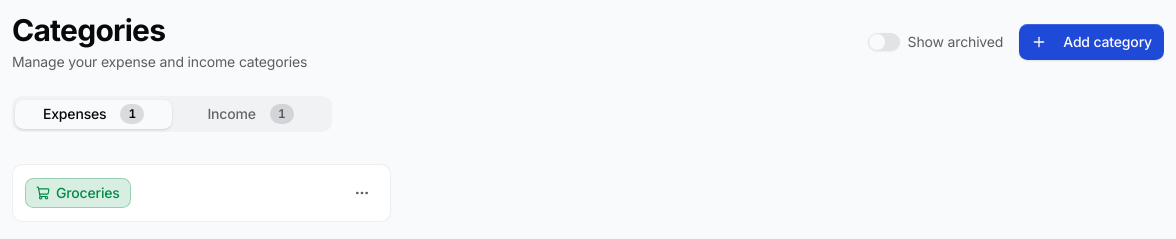
Scenario: CategoriesPage › switches between expenses and incomes tabs
Click the tab with test id "income-tab" at x=250, y=114, box [172, 100, 329, 128]
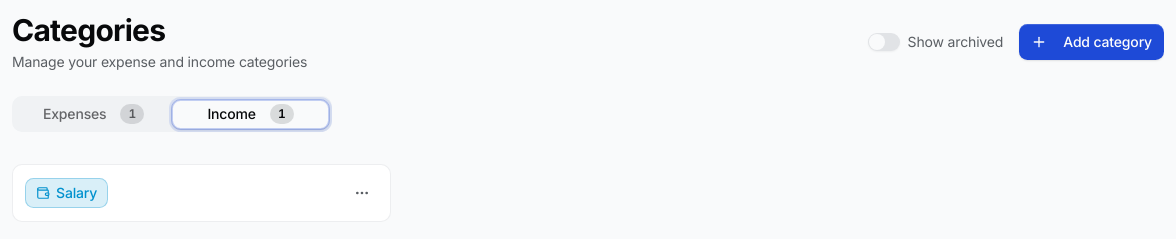
expect the text "Salary" is shown: met, box [56, 183, 97, 203]
expect the text "Groceries" is gone: met
